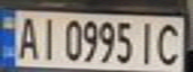0: (60, 16, 84, 62)
5: (115, 18, 139, 65)
9: (78, 16, 100, 63), (97, 17, 118, 64)
A: (12, 12, 42, 61)
C: (151, 19, 184, 67)
I: (136, 18, 160, 65), (36, 14, 60, 61)
